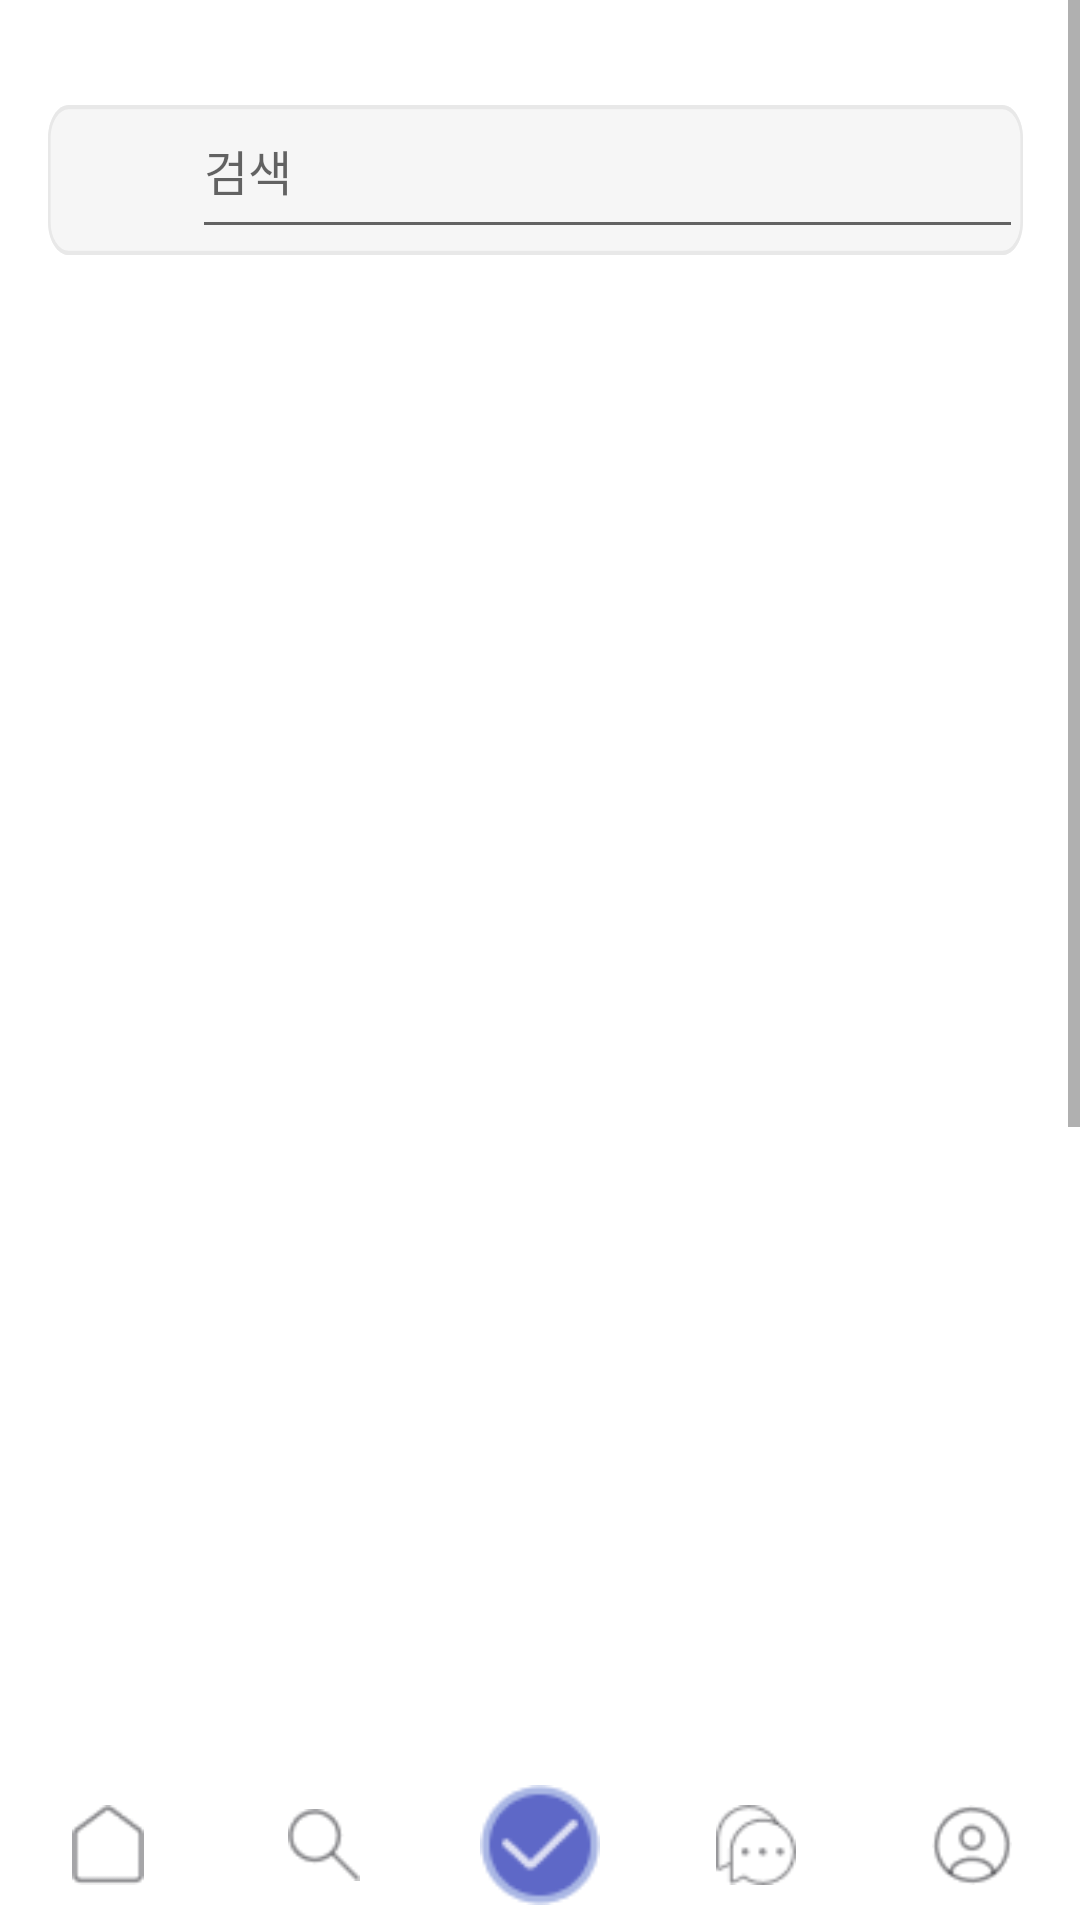

Icon click points for this 1080 x 1920 phone screenshot, format (x,y):
homepage check: (540,1845)
homepage home: (108,1844)
homepage message: (756,1845)
homepage profile: (972,1845)
homepage search: (324,1845)
